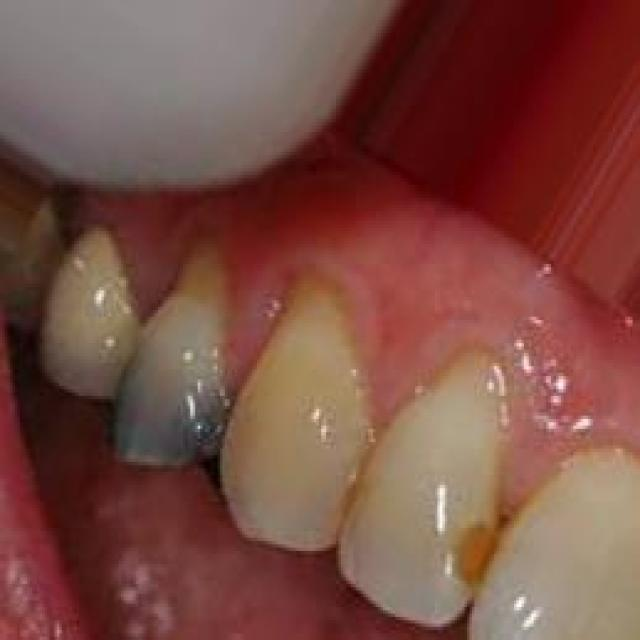caries: (441, 497, 506, 600)
